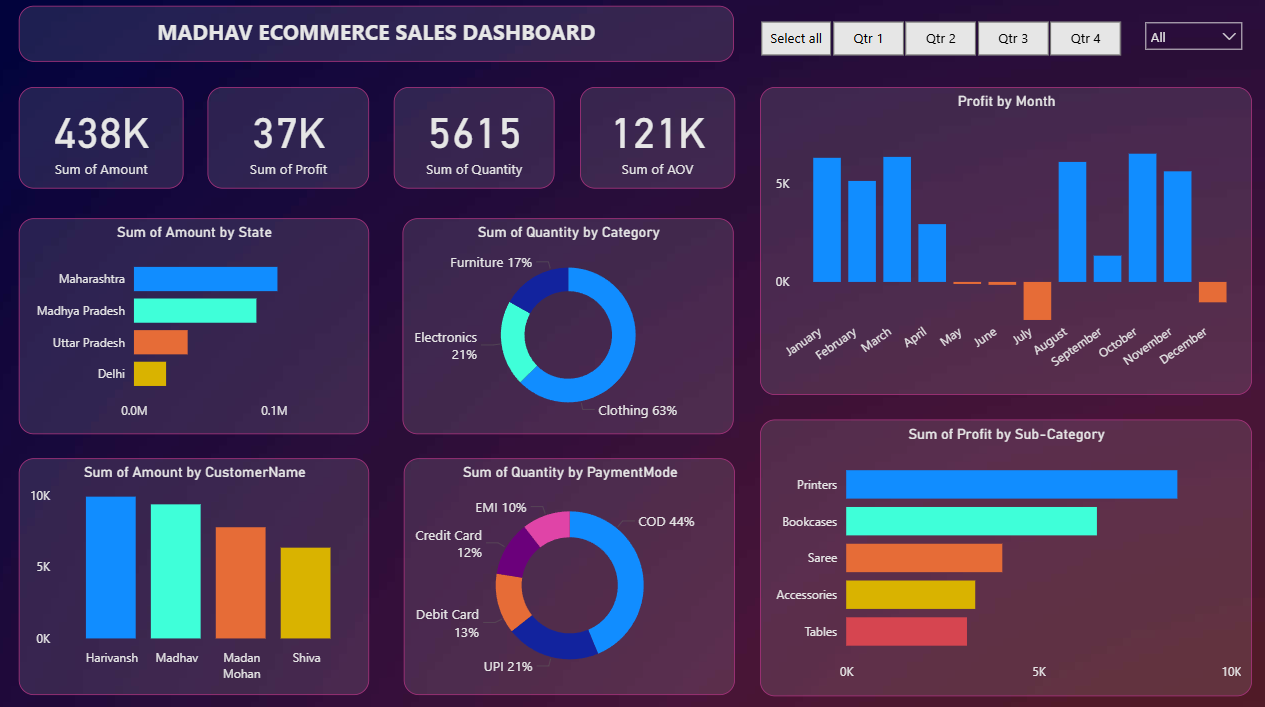

The dashboard page shown, as its layout file describes it:
{"tool":"powerbi","page":{"name":"Page 1","canvas":[1280,720],"ordinal":0},"visuals":[{"type":"textbox","box":[23.9,8.5,715.5,56.3],"z":0},{"type":"columnChart","title":"Profit by Month","fields":{"Y":["Sum(Details.Profit)"],"Category":["Orders.Order Date.Variation.Date Hierarchy.Month"]},"box":[764.4,90.4,491.8,308.2],"z":1000},{"type":"barChart","fields":{"Category":["Details.Sub-Category"],"Y":["Sum(Details.Profit)"]},"box":[764.4,421.9,491.8,276.7],"z":2000},{"type":"donutChart","fields":{"Category":["Details.Category"],"Y":["Sum(Details.Quantity)"]},"box":[408.1,221.6,331.1,216.2],"z":3000},{"type":"donutChart","fields":{"Y":["Sum(Details.Quantity)"],"Category":["Details.PaymentMode"]},"box":[408.2,461.6,331.5,237],"z":4000},{"type":"card","fields":{"Values":["Sum(Details.Amount)"]},"box":[23.9,90.1,164.8,101.4],"z":5000},{"type":"card","fields":{"Values":["Sum(Details.Quantity)"]},"box":[398.6,90.1,160.6,101.4],"z":6000},{"type":"card","fields":{"Values":["Sum(Details.Profit)"]},"box":[212.7,90.1,162,101.4],"z":7000},{"type":"card","fields":{"Values":["Sum(Details.AOV)"]},"box":[584.5,90.1,154.9,101.4],"z":8000},{"type":"barChart","fields":{"Category":["Orders.State"],"Y":["Sum(Details.Amount)"]},"box":[24.3,221.6,350,216.2],"z":9000},{"type":"columnChart","fields":{"Category":["Orders.CustomerName"],"Y":["Sum(Details.Amount)"]},"box":[23.3,461.6,350.7,237],"z":10000},{"type":"slicer","fields":{"Values":["Orders.Order Date.Variation.Date Hierarchy.Quarter"]},"box":[739.4,16.9,409.9,47.9],"z":11000},{"type":"slicer","fields":{"Values":["Orders.State"]},"box":[1139.4,15.5,116.9,49.3],"z":12000}]}

Visuals, with their boxes in screenshot pixels (x1, y1, x2, y2), scaled from the page's 1280x720 canvas onto the 1265x707 screenshot:
textbox: rect(24, 8, 731, 64)
"Profit by Month" columnChart: rect(755, 89, 1241, 391)
barChart - Details.Sub-Category x Sum(Details.Profit): rect(755, 414, 1241, 686)
donutChart - Details.Category x Sum(Details.Quantity): rect(403, 218, 731, 430)
donutChart - Sum(Details.Quantity) x Details.PaymentMode: rect(403, 453, 731, 686)
card - Sum(Details.Amount): rect(24, 88, 186, 188)
card - Sum(Details.Quantity): rect(394, 88, 553, 188)
card - Sum(Details.Profit): rect(210, 88, 370, 188)
card - Sum(Details.AOV): rect(578, 88, 731, 188)
barChart - Orders.State x Sum(Details.Amount): rect(24, 218, 370, 430)
columnChart - Orders.CustomerName x Sum(Details.Amount): rect(23, 453, 370, 686)
slicer - Orders.Order Date.Variation.Date Hierarchy.Quarter: rect(731, 17, 1136, 64)
slicer - Orders.State: rect(1126, 15, 1242, 64)
